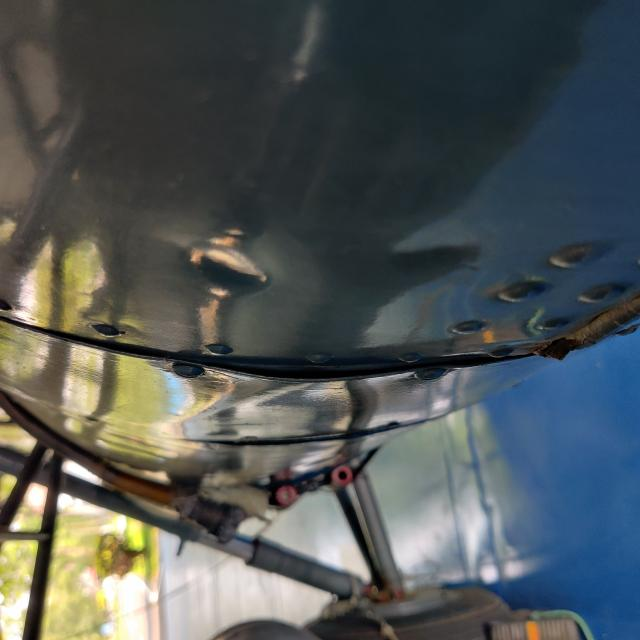dent: (324, 177, 425, 288), (346, 378, 440, 492)
